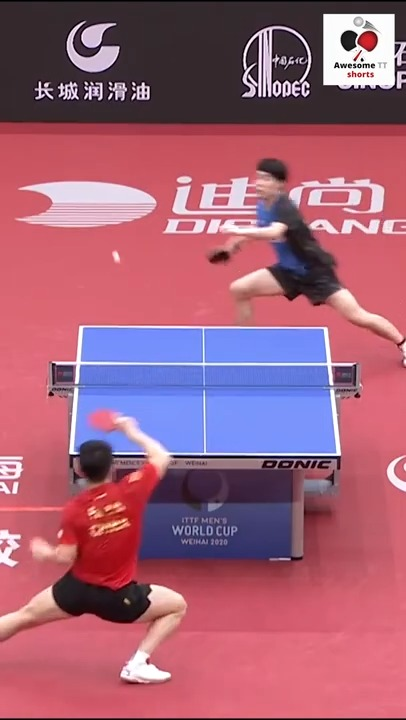Ball: (110, 251, 122, 264)
